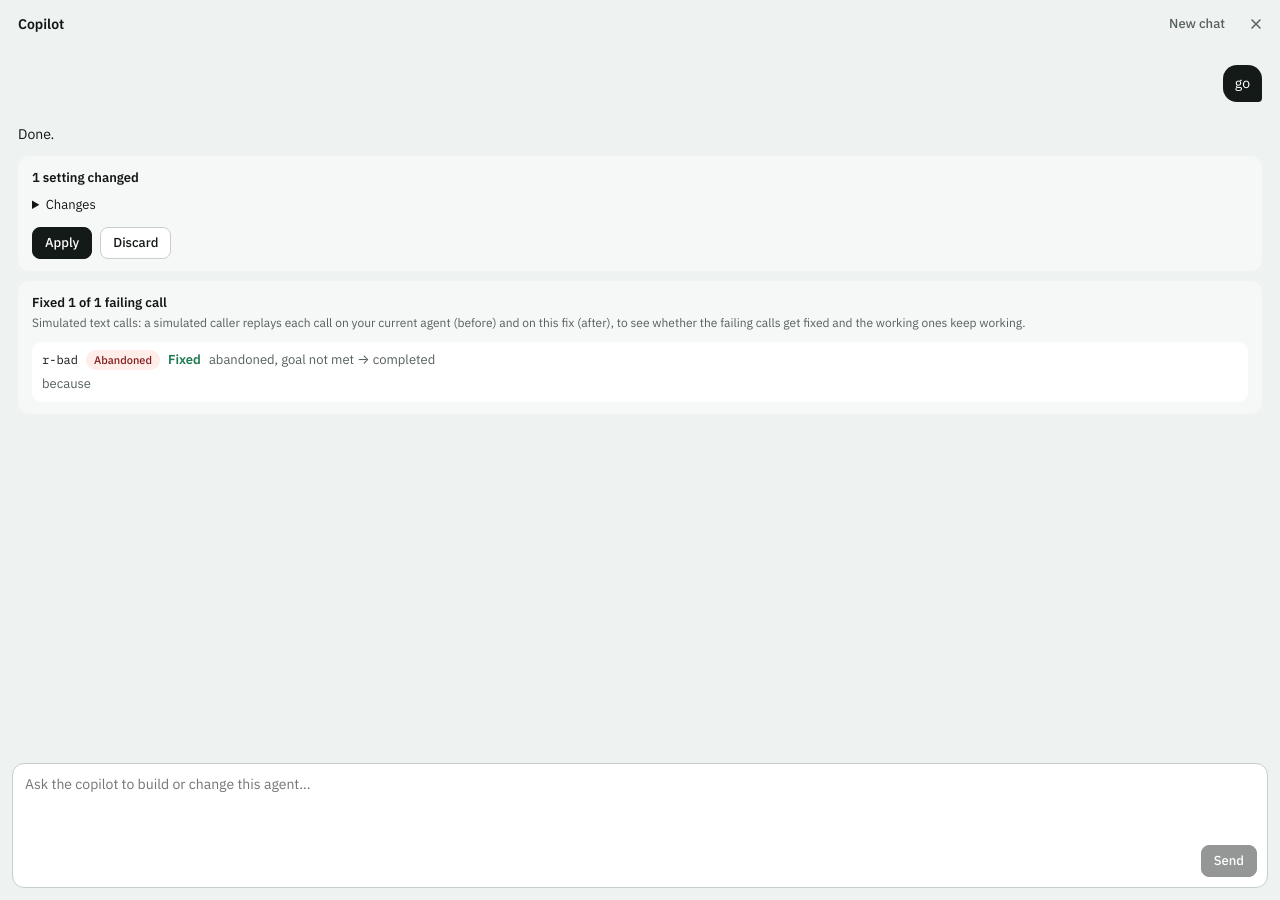
it: asking the chat to replay › says so when the fix was already replayed
The width and height of the screenshot is (1280, 900).
Type "replay them" into the text box named "Message to the copilot" at (640, 806), box x1=23 y1=774 x2=1257 y2=837
Then press Enter
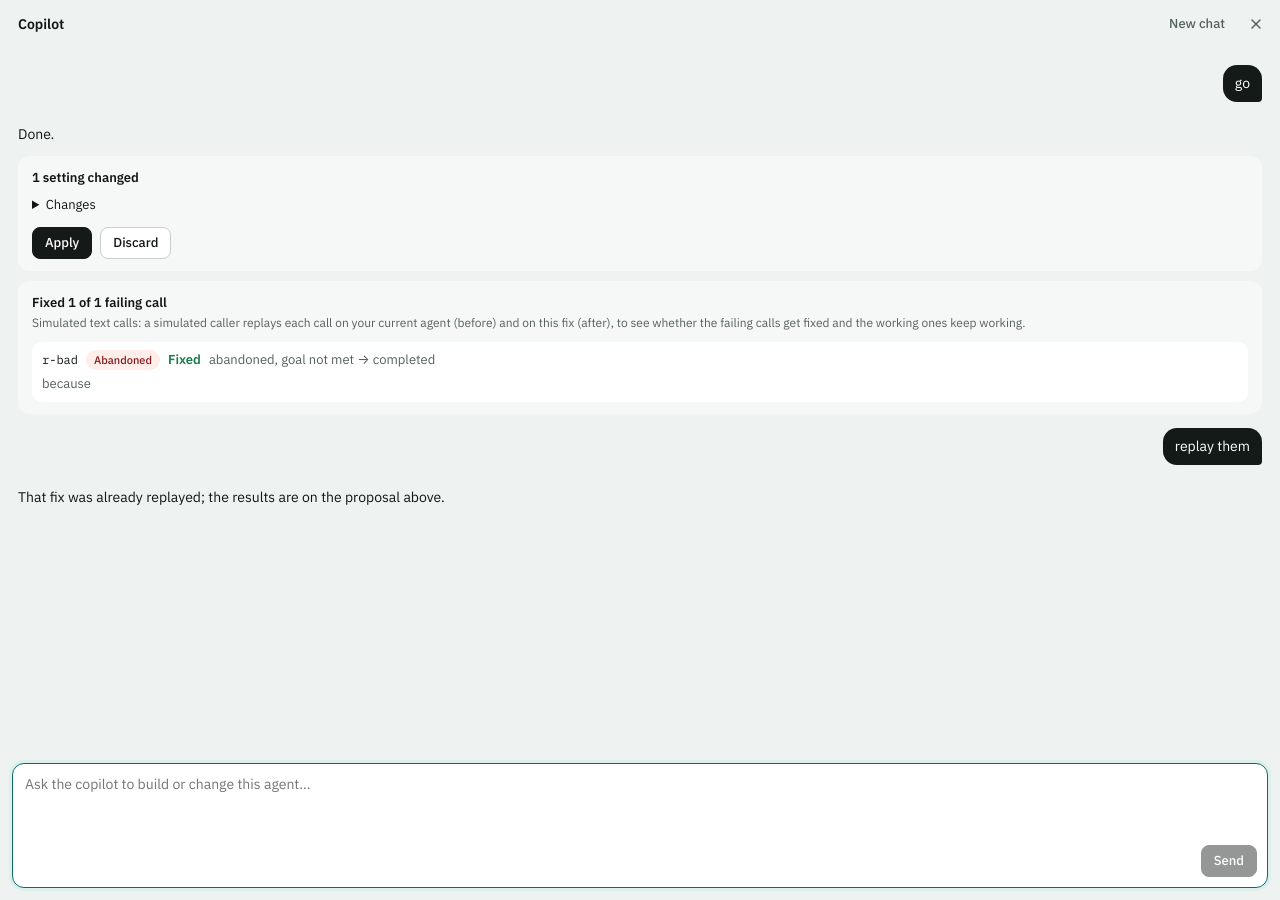
Result: the list named "Conversation" shows "already replayed" at x1=18 y1=488 x2=445 y2=506
